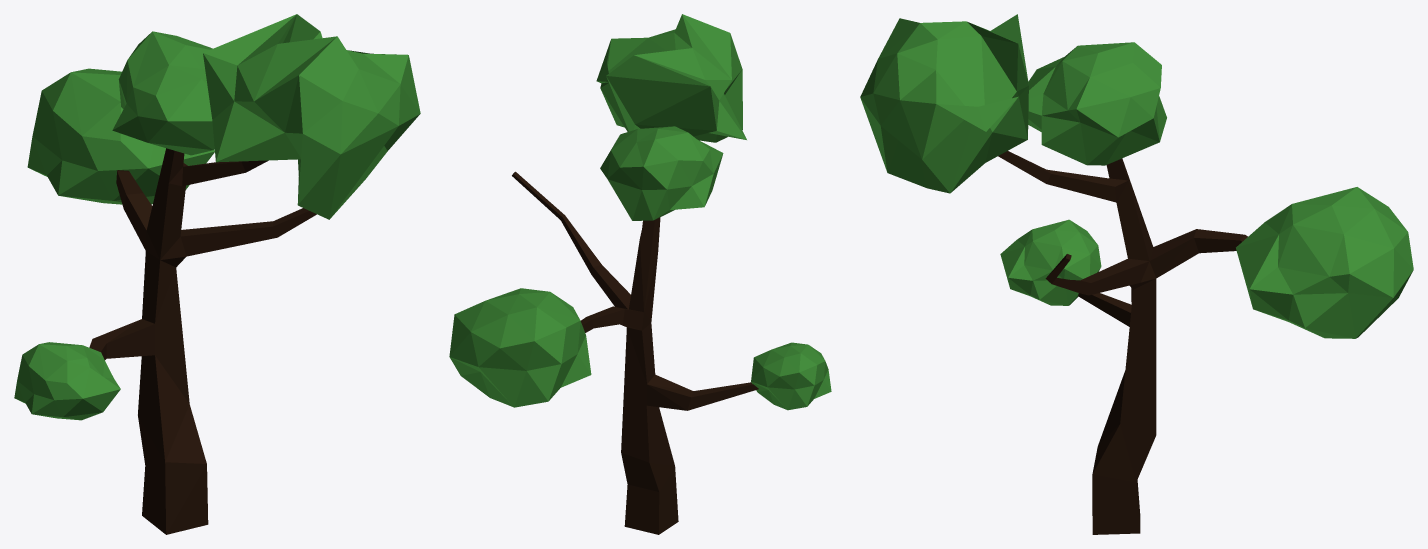
File: arbre.fbx
3 renders of one model, left to right at view 1: azimuth 30°, elevation 25°; view 2: azimuth 150°, elevation 25°; view 3: azimuth 270°, elevation 25°, orthographic. The views are drawn at different scales.
Visible parts, largest first — view 1: Tree; view 2: Tree; view 3: Tree.
Boxes of the visible parts, x1=… form: Tree: x1=14, y1=14, x2=420, y2=534; Tree: x1=449, y1=14, x2=831, y2=534; Tree: x1=860, y1=14, x2=1413, y2=534.
Size of the model in its own units: 785 by 1074 by 1013.
